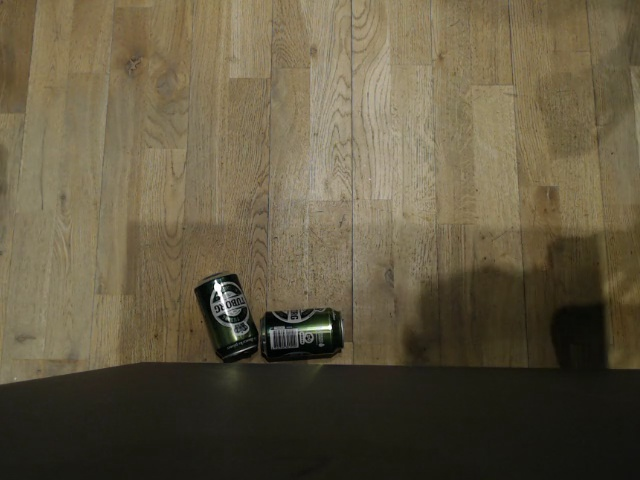beer: (195, 269, 258, 362), (260, 305, 344, 363)
